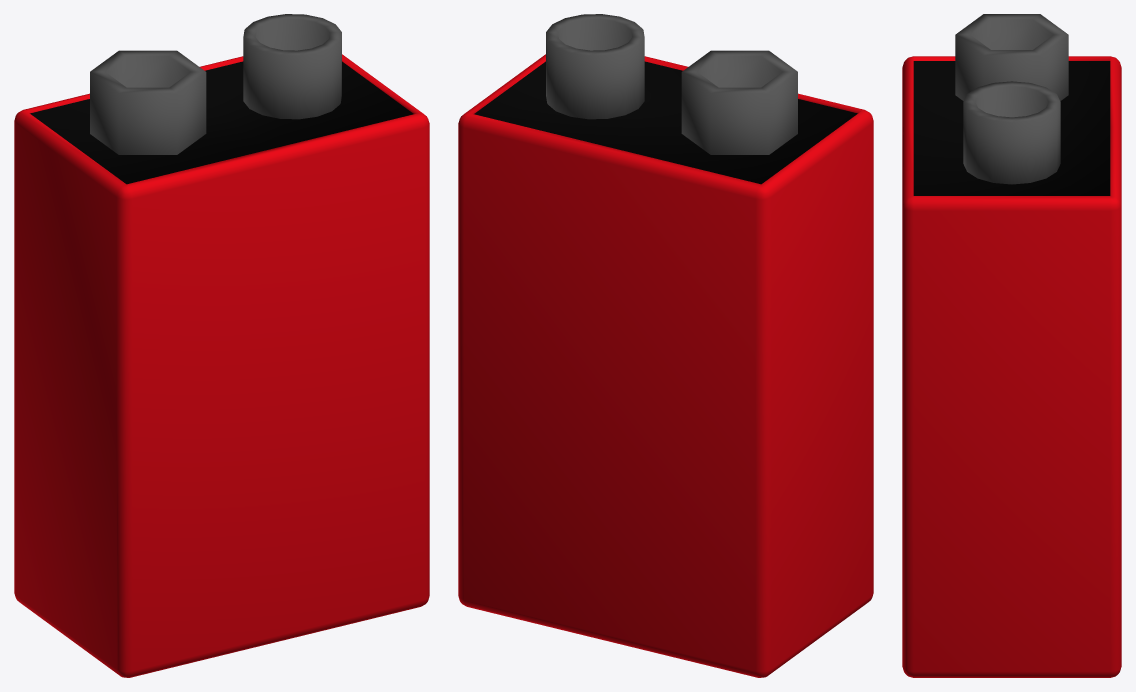
File: Battery.fbx
3 renders of one model, left to right at view 1: azimuth 30°, elevation 25°; view 2: azimuth 150°, elevation 25°; view 3: azimuth 270°, elevation 25°, orthographic. The views are drawn at different scales.
Parts seen in each view (by area): view 1: batteryMesh; view 2: batteryMesh; view 3: batteryMesh.
Boxes of the visible parts, x1,y1,x2,y2 form: batteryMesh: (14, 14, 429, 677); batteryMesh: (458, 14, 873, 677); batteryMesh: (902, 14, 1121, 677).
Size of the model in its own units: 66.14 by 112 by 41.29.
